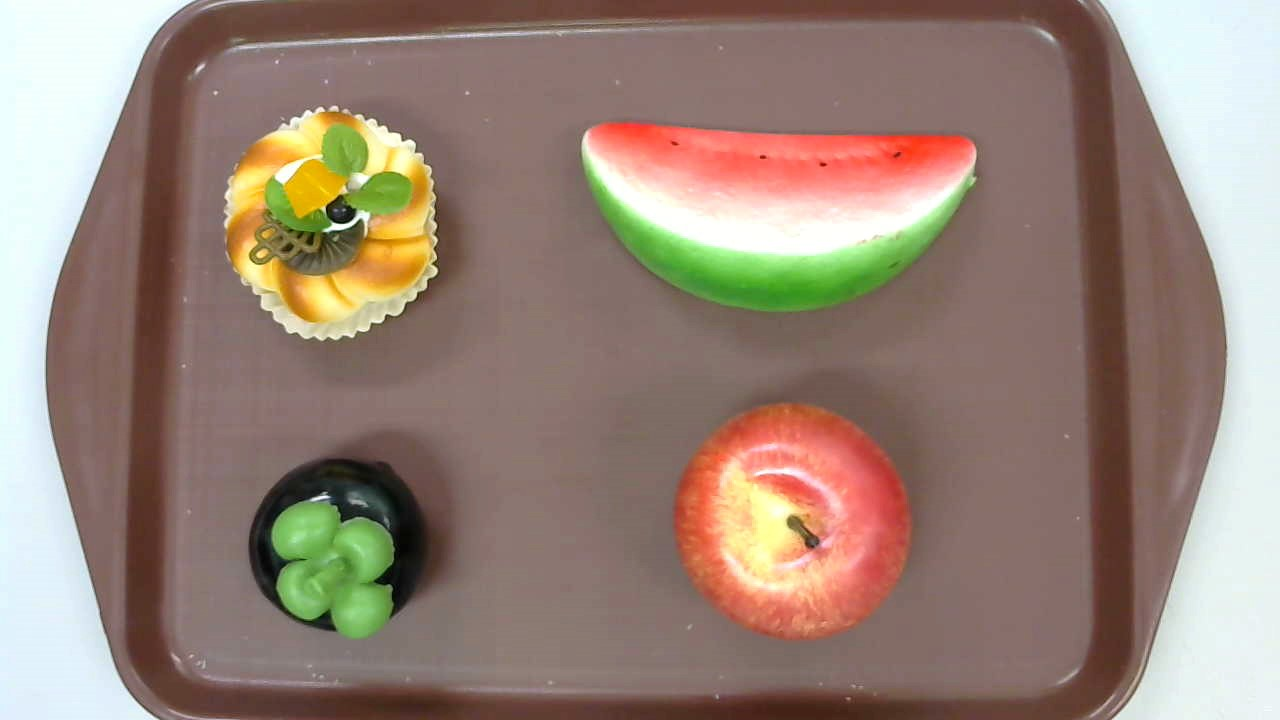fruit tart: (222, 106, 438, 342)
mangosteen: (247, 456, 428, 640)
red apple: (673, 402, 913, 641)
water melon: (580, 119, 976, 312)
